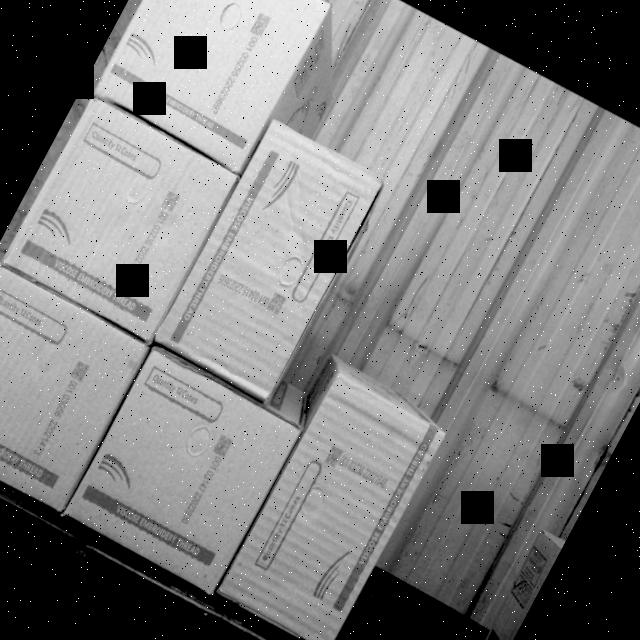box: (152, 116, 386, 400), (214, 372, 444, 640), (1, 96, 238, 342), (66, 349, 300, 591), (91, 0, 332, 170), (0, 261, 150, 513)
